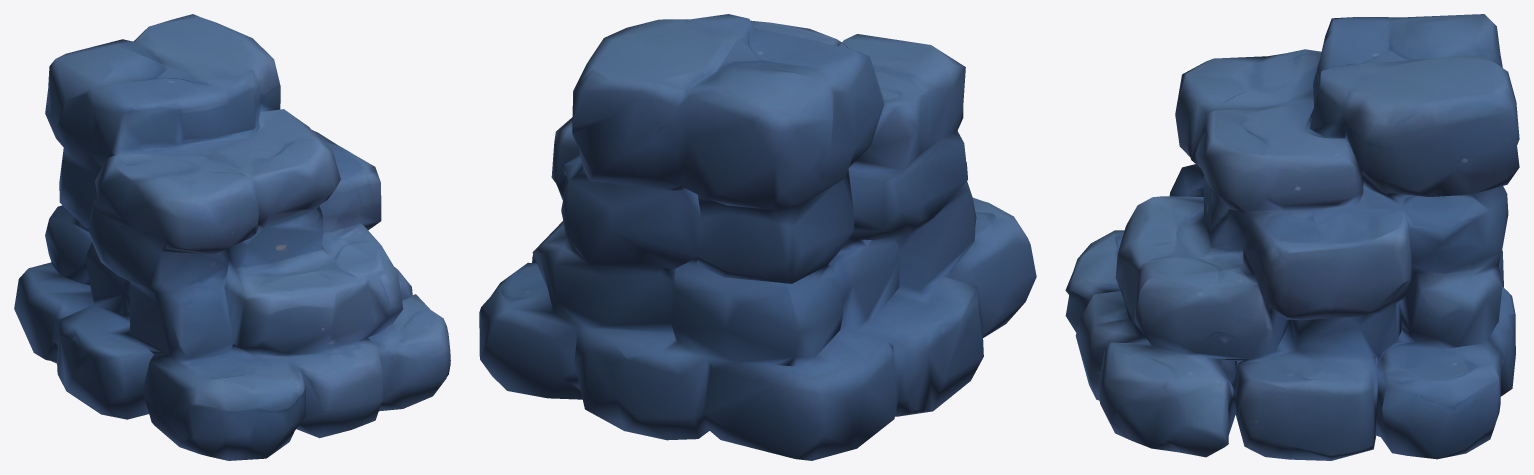
The model's file is camp_rocks_flat-CliDcy02.glb.
3 views of the same model, side by side, from view 1: azimuth 30°, elevation 25°; view 2: azimuth 150°, elevation 25°; view 3: azimuth 270°, elevation 25° (orthographic). The views are drawn at different scales.
Visible parts, largest first — view 1: tripo_node_15603dde-fea1-4877-94d2-f3710378fd14; view 2: tripo_node_15603dde-fea1-4877-94d2-f3710378fd14; view 3: tripo_node_15603dde-fea1-4877-94d2-f3710378fd14.
Part boxes in pixels (x1=…): tripo_node_15603dde-fea1-4877-94d2-f3710378fd14: x1=14, y1=14, x2=450, y2=460; tripo_node_15603dde-fea1-4877-94d2-f3710378fd14: x1=479, y1=14, x2=1036, y2=460; tripo_node_15603dde-fea1-4877-94d2-f3710378fd14: x1=1065, y1=14, x2=1519, y2=460.
Bounding box in the file's own units: 0.9016 × 0.7748 × 1.
Materials: 1 (1 with a texture image).
